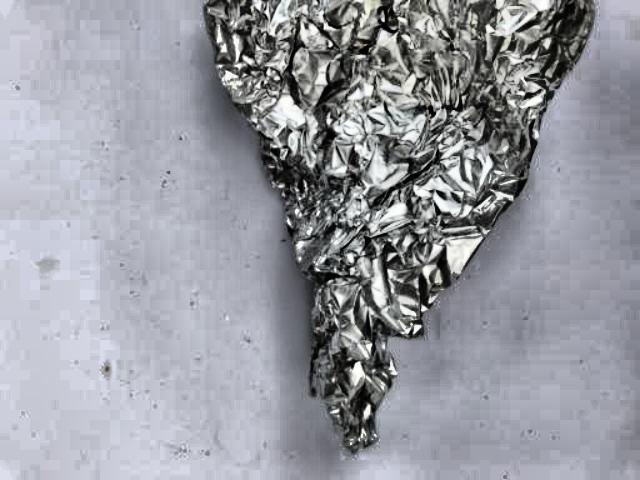Almennt: (192, 0, 602, 480)
